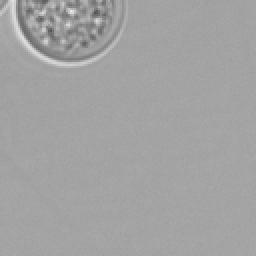picoshell: (10, 0, 126, 66)
